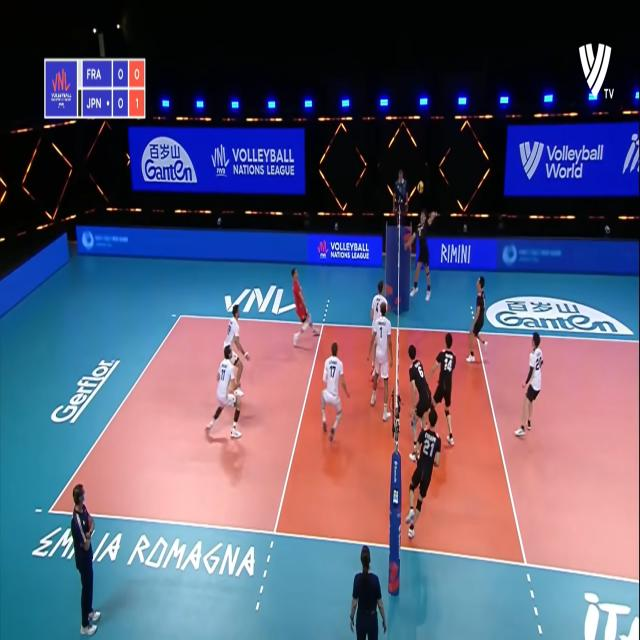player: (408, 412, 442, 542), (206, 335, 244, 450), (405, 336, 437, 457), (365, 304, 395, 420), (316, 341, 348, 448), (404, 209, 440, 303), (220, 300, 252, 402), (515, 334, 544, 444), (434, 333, 459, 448), (466, 273, 492, 375), (290, 260, 320, 344), (365, 279, 392, 363)
